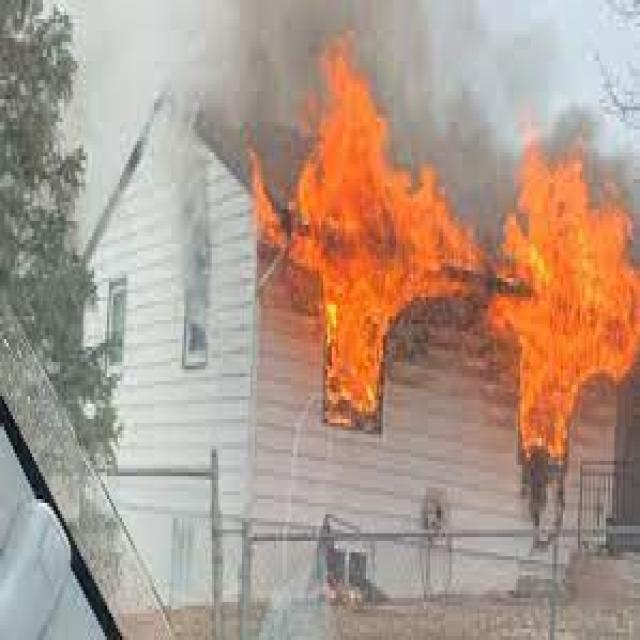Fire: (288, 65, 474, 397), (501, 158, 640, 440)
Smoke: (184, 8, 640, 222)
